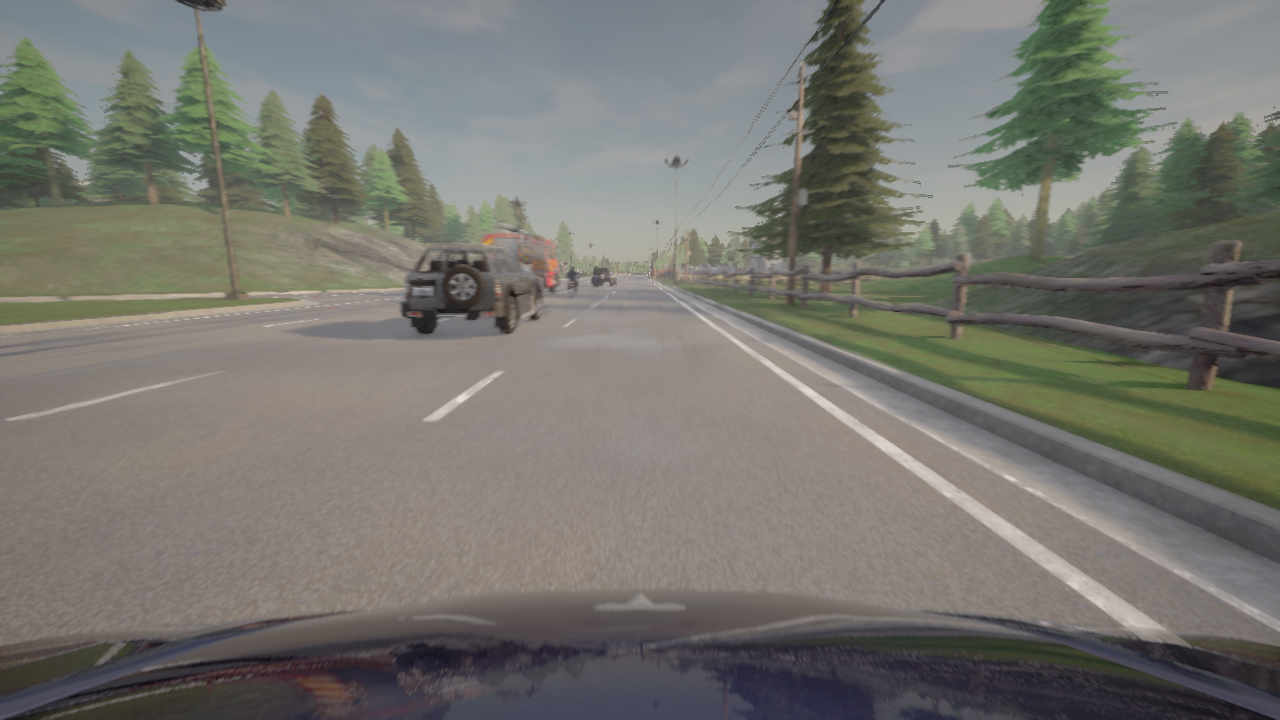cyclist: (0, 588, 1279, 719), (401, 243, 543, 334), (481, 224, 561, 291), (592, 267, 613, 286), (565, 273, 581, 297), (599, 271, 617, 284)
